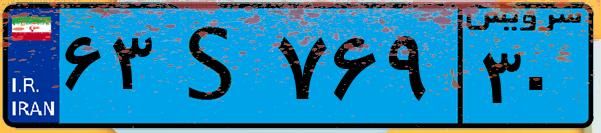0: (525, 38, 570, 115)
3: (475, 38, 525, 113), (110, 28, 158, 98)
6: (330, 28, 385, 110), (57, 26, 110, 100)
7: (270, 28, 330, 110)
9: (385, 28, 445, 110)
S: (158, 12, 270, 120)
